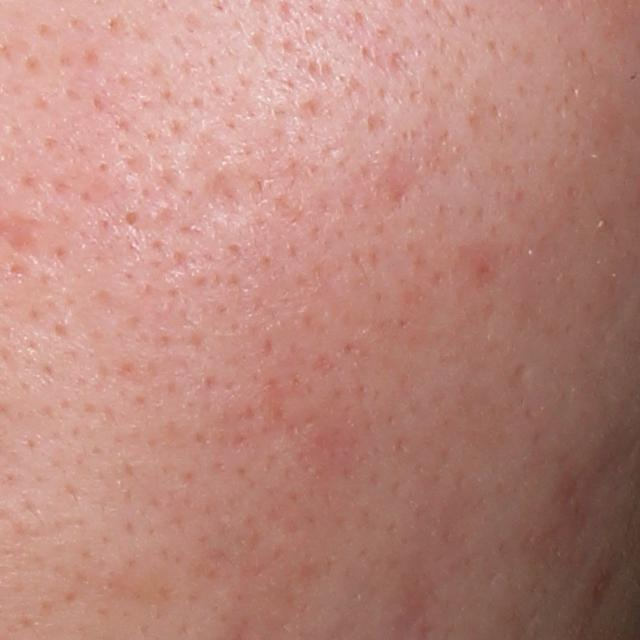atrophic_scar: (180, 134, 264, 236)
comedo: (122, 206, 142, 230)
